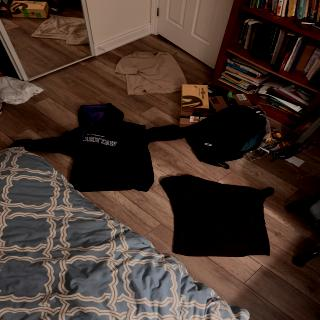Maroon T-Shirt: (162, 172, 280, 258)
Waterloo Hoodie: (45, 105, 158, 193)
Yellow T-Shirt: (112, 47, 188, 100)
